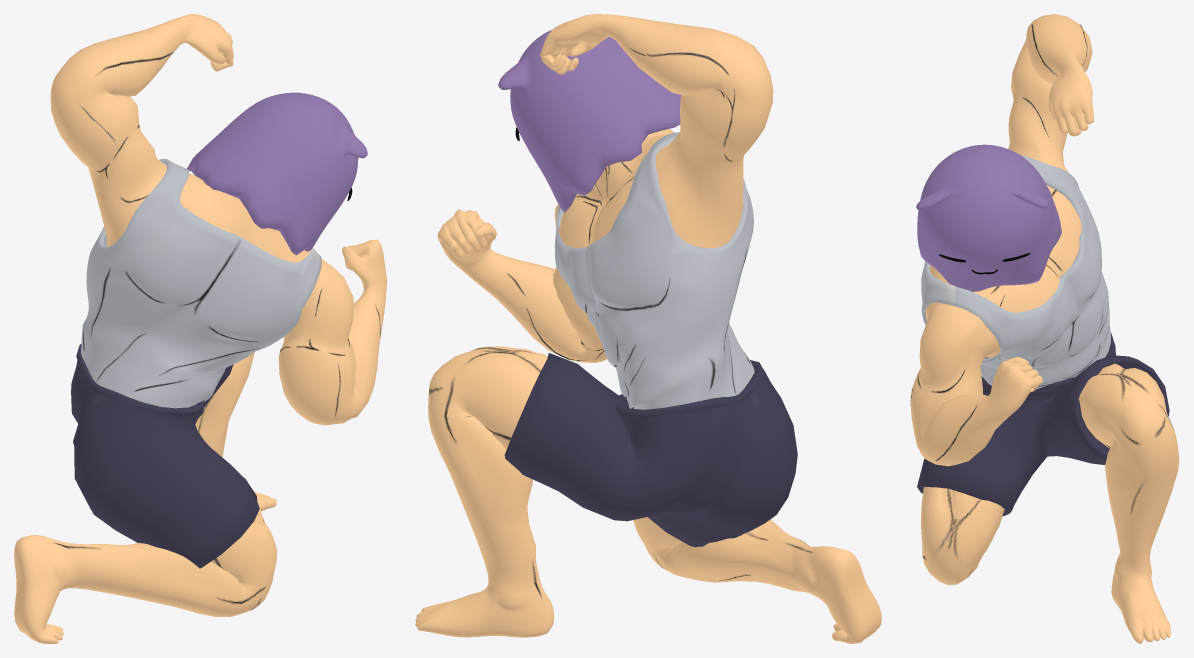
File: SwoleDachi.glb
3 renders of one model, left to right at view 1: azimuth 30°, elevation 25°; view 2: azimuth 150°, elevation 25°; view 3: azimuth 270°, elevation 25°, orthographic. The views are drawn at different scales.
Parts seen in each view (by area): view 1: SwoleDachi.002; view 2: SwoleDachi.002; view 3: SwoleDachi.002.
Part boxes in pixels (left/top/right/bottom): SwoleDachi.002: left=14, top=14, right=386, bottom=643; SwoleDachi.002: left=415, top=14, right=881, bottom=643; SwoleDachi.002: left=910, top=14, right=1179, bottom=643.
Bounding box in the file's own units: 6.22 × 8.69 × 4.02.
Materials: 1 (1 with a texture image).
